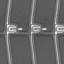dust: (35, 33, 39, 36)
